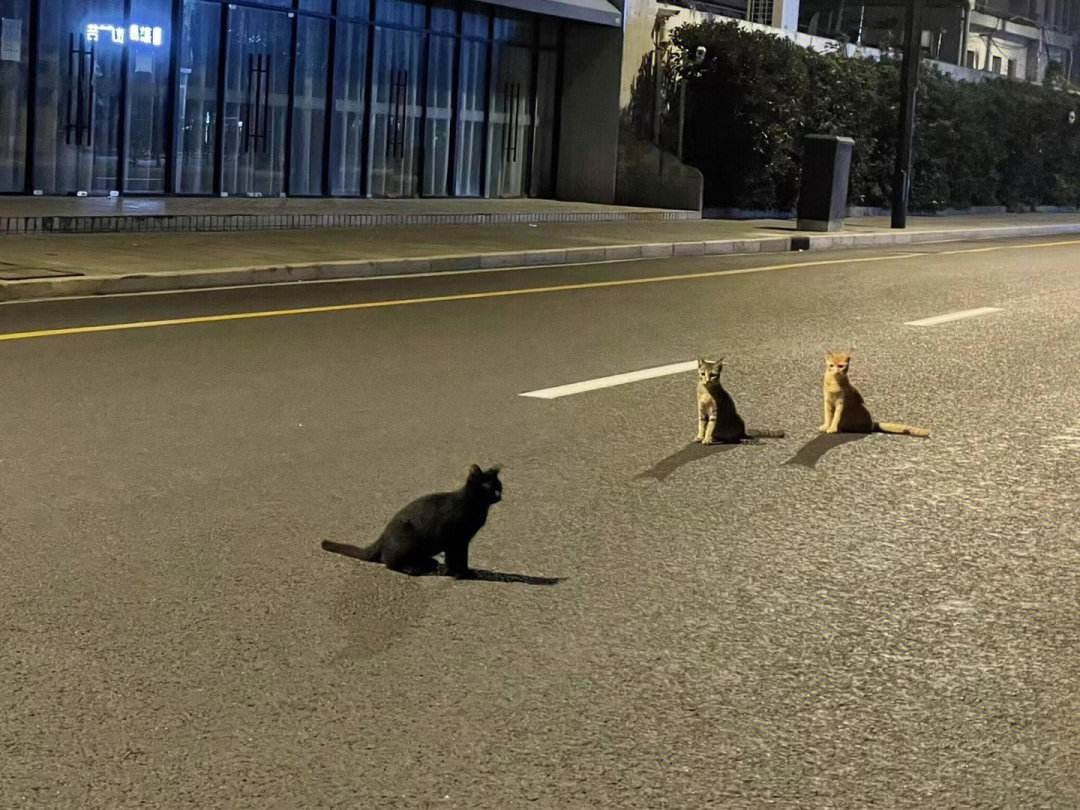cat: (319, 462, 504, 582), (817, 346, 930, 439), (693, 355, 784, 445)
